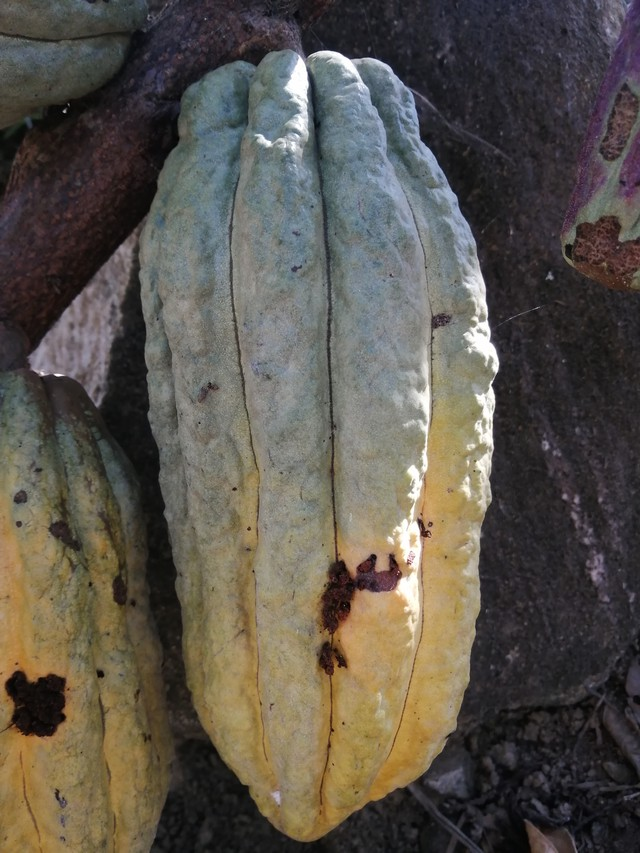carmenta foraseminis: (141, 54, 502, 844), (0, 372, 169, 850)
